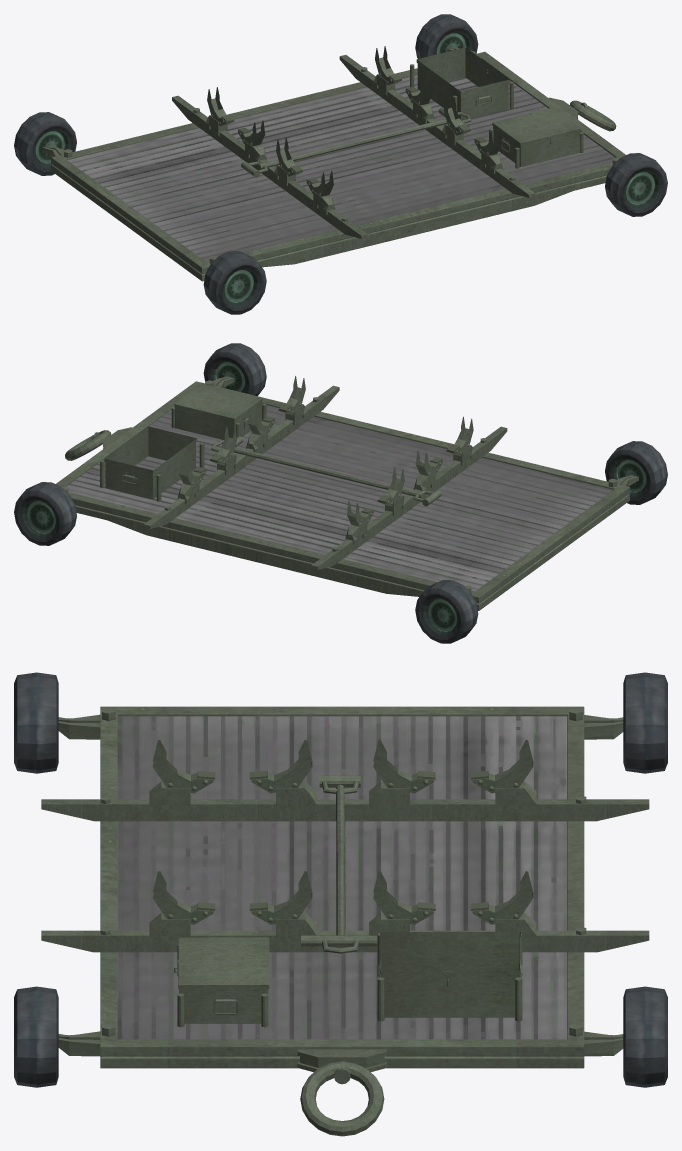
The model's file is stand_cart.glb.
3 renders of one model, top to bottom at view 1: azimuth 30°, elevation 25°; view 2: azimuth 150°, elevation 25°; view 3: azimuth 270°, elevation 25°, orthographic. The views are drawn at different scales.
Visible parts, largest first — view 1: Object_3; view 2: Object_3; view 3: Object_3.
Boxes of the visible parts, x1,y1,x2,y2 form: Object_3: [14, 14, 667, 314]; Object_3: [14, 343, 667, 643]; Object_3: [14, 672, 667, 1136].
Size of the model in its own units: 1 by 0.1535 by 0.7072.
5 materials, 5 textured.
